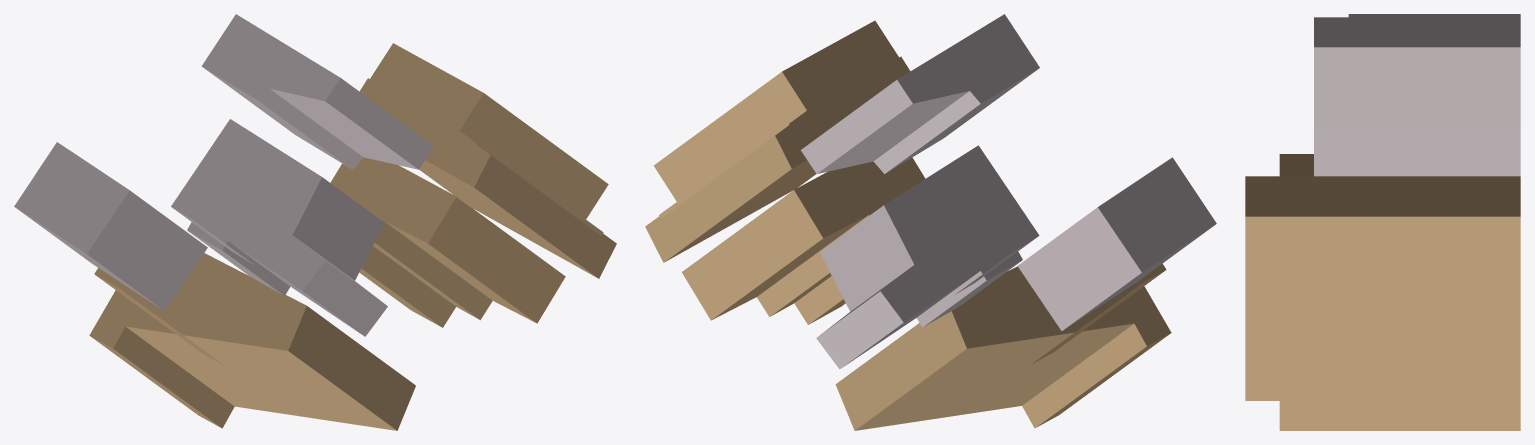
3 renders of one model, left to right at view 1: azimuth 30°, elevation 25°; view 2: azimuth 150°, elevation 25°; view 3: azimuth 270°, elevation 25°, orthographic. The views are drawn at different scales.
Parts seen in each view (by area): view 1: 0_3_0_1_1_1_3_3_0; view 2: 0_3_0_1_1_1_3_3_0; view 3: 0_3_0_1_1_1_3_3_0.
Part boxes in pixels (x1,y1,x2,y2): 0_3_0_1_1_1_3_3_0: (14, 14, 616, 430); 0_3_0_1_1_1_3_3_0: (645, 14, 1216, 430); 0_3_0_1_1_1_3_3_0: (1245, 14, 1520, 430).
Bounding box in the file's own units: 53.03 × 37.07 × 24.
